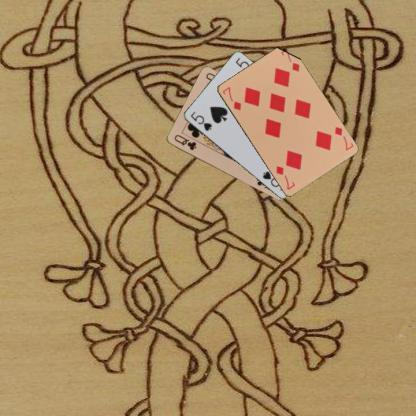5s: (188, 109, 214, 132)
7d: (220, 84, 242, 112), (332, 124, 354, 152)
Qc: (172, 132, 198, 152)
